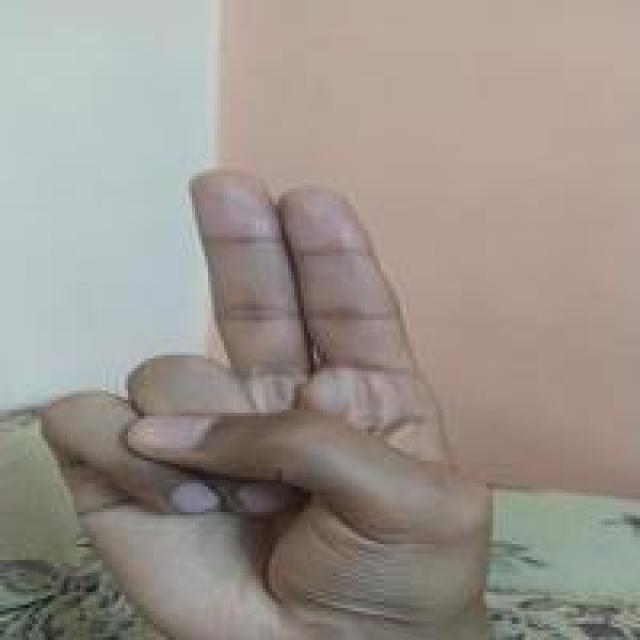U: (27, 150, 507, 628)
